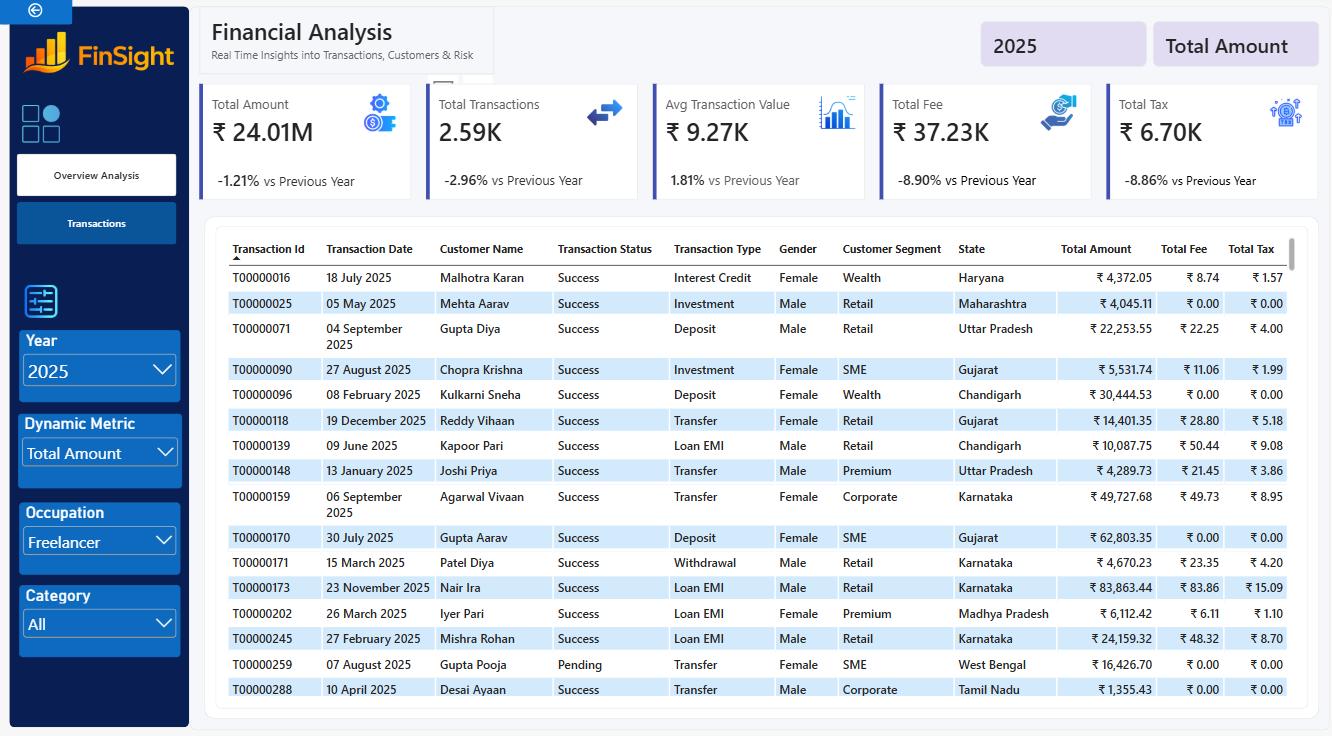

This screenshot's page, from the dashboard's own definition file:
{"tool":"powerbi","page":{"name":"Transactions","canvas":[1800,1000],"ordinal":1},"visuals":[{"type":"shape","box":[15.4,15.4,241.2,966.8],"z":0},{"type":"shape","box":[256.6,15.4,1530,970.6],"z":1000},{"type":"image","box":[25.1,34.7,223.8,84.9],"z":2000},{"type":"cardVisual","fields":{"Data":["finance_transactions.Dashboard Title"]},"box":[270.2,15.4,395.6,90.7],"z":3000},{"type":"cardVisual","fields":{"Data":["finance_transactions.Total Amount","finance_transactions.Total Transactions","finance_transactions.Avg Transaction Value","finance_transactions.Total Fee","finance_transactions.Total Tax"]},"box":[270.2,119.6,1501.3,155],"z":4000},{"type":"image","box":[482.4,133.1,57.9,50.2],"z":5000},{"type":"image","box":[783.5,133.1,57.9,50.2],"z":6000},{"type":"image","box":[1393.2,133.1,57.9,50.2],"z":7000},{"type":"image","box":[1096.1,133.1,57.9,50.2],"z":8000},{"type":"image","box":[1698.1,133.1,57.9,50.2],"z":9000},{"type":"shape","box":[276.5,296.6,1494.6,673.6],"z":10000},{"type":"cardVisual","fields":{"Data":["finance_transactions.Selected Year","finance_transactions.Selected Dynamic Measure"]},"box":[1317,35.2,454.1,62],"z":11000},{"type":"tableEx","fields":{"Values":["finance_transactions.transaction_id","finance_transactions.transaction_date","customers.customer_name","finance_transactions.transaction_status","finance_transactions.transaction_type","customers.gender","customers.customer_segment","customers.state","finance_transactions.Total Amount","finance_transactions.Total Fee","finance_transactions.Total Tax"]},"box":[291.6,310,1464.5,646.8],"z":12000},{"type":"actionButton","box":[0,0,100,40],"z":13000},{"type":"slicer","fields":{"Values":["Calender.Year"]},"box":[28.5,449.1,216.1,96.5],"z":14000},{"type":"slicer","fields":{"Values":["Dynamic Metric.Dynamic Metric"]},"box":[26.8,561.3,220,100.3],"z":15000},{"type":"slicer","fields":{"Values":["customers.occupation"]},"box":[28.5,680.3,216.1,96.5],"z":16000},{"type":"slicer","fields":{"Values":["finance_transactions.merchant_category"]},"box":[28.5,790.9,216.1,96.5],"z":17000},{"type":"pageNavigator","box":[25.1,212.8,214.5,124],"z":18000},{"type":"image","box":[28.5,147.5,57.9,50.2],"z":18001},{"type":"image","box":[28.5,385.4,57.9,50.2],"z":18002}]}

Visuals, with their boxes on the page's 1800x1000 design canvas (x1, y1, x2, y2). These are canvas units, not pixel positions in the 1332x736 screenshot, which may show the page scaled, cropped or inside an application window:
shape: (15, 15, 257, 982)
shape: (257, 15, 1787, 986)
image: (25, 35, 249, 120)
cardVisual - finance_transactions.Dashboard Title: (270, 15, 666, 106)
cardVisual - finance_transactions.Total Amount x finance_transactions.Total Transactions: (270, 120, 1772, 275)
image: (482, 133, 540, 183)
image: (784, 133, 841, 183)
image: (1393, 133, 1451, 183)
image: (1096, 133, 1154, 183)
image: (1698, 133, 1756, 183)
shape: (276, 297, 1771, 970)
cardVisual - finance_transactions.Selected Year x finance_transactions.Selected Dynamic Measure: (1317, 35, 1771, 97)
tableEx - finance_transactions.transaction_id x finance_transactions.transaction_date: (292, 310, 1756, 957)
actionButton: (0, 0, 100, 40)
slicer - Calender.Year: (28, 449, 245, 546)
slicer - Dynamic Metric.Dynamic Metric: (27, 561, 247, 662)
slicer - customers.occupation: (28, 680, 245, 777)
slicer - finance_transactions.merchant_category: (28, 791, 245, 887)
pageNavigator: (25, 213, 240, 337)
image: (28, 148, 86, 198)
image: (28, 385, 86, 436)
